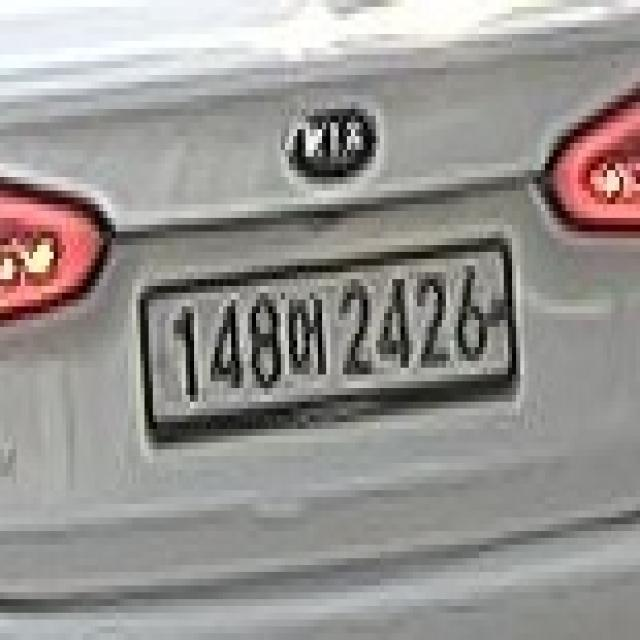plat: (134, 233, 520, 439)
